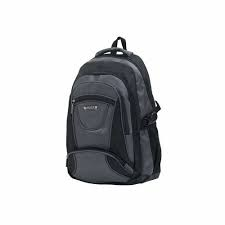backpack: (65, 36, 161, 185)
